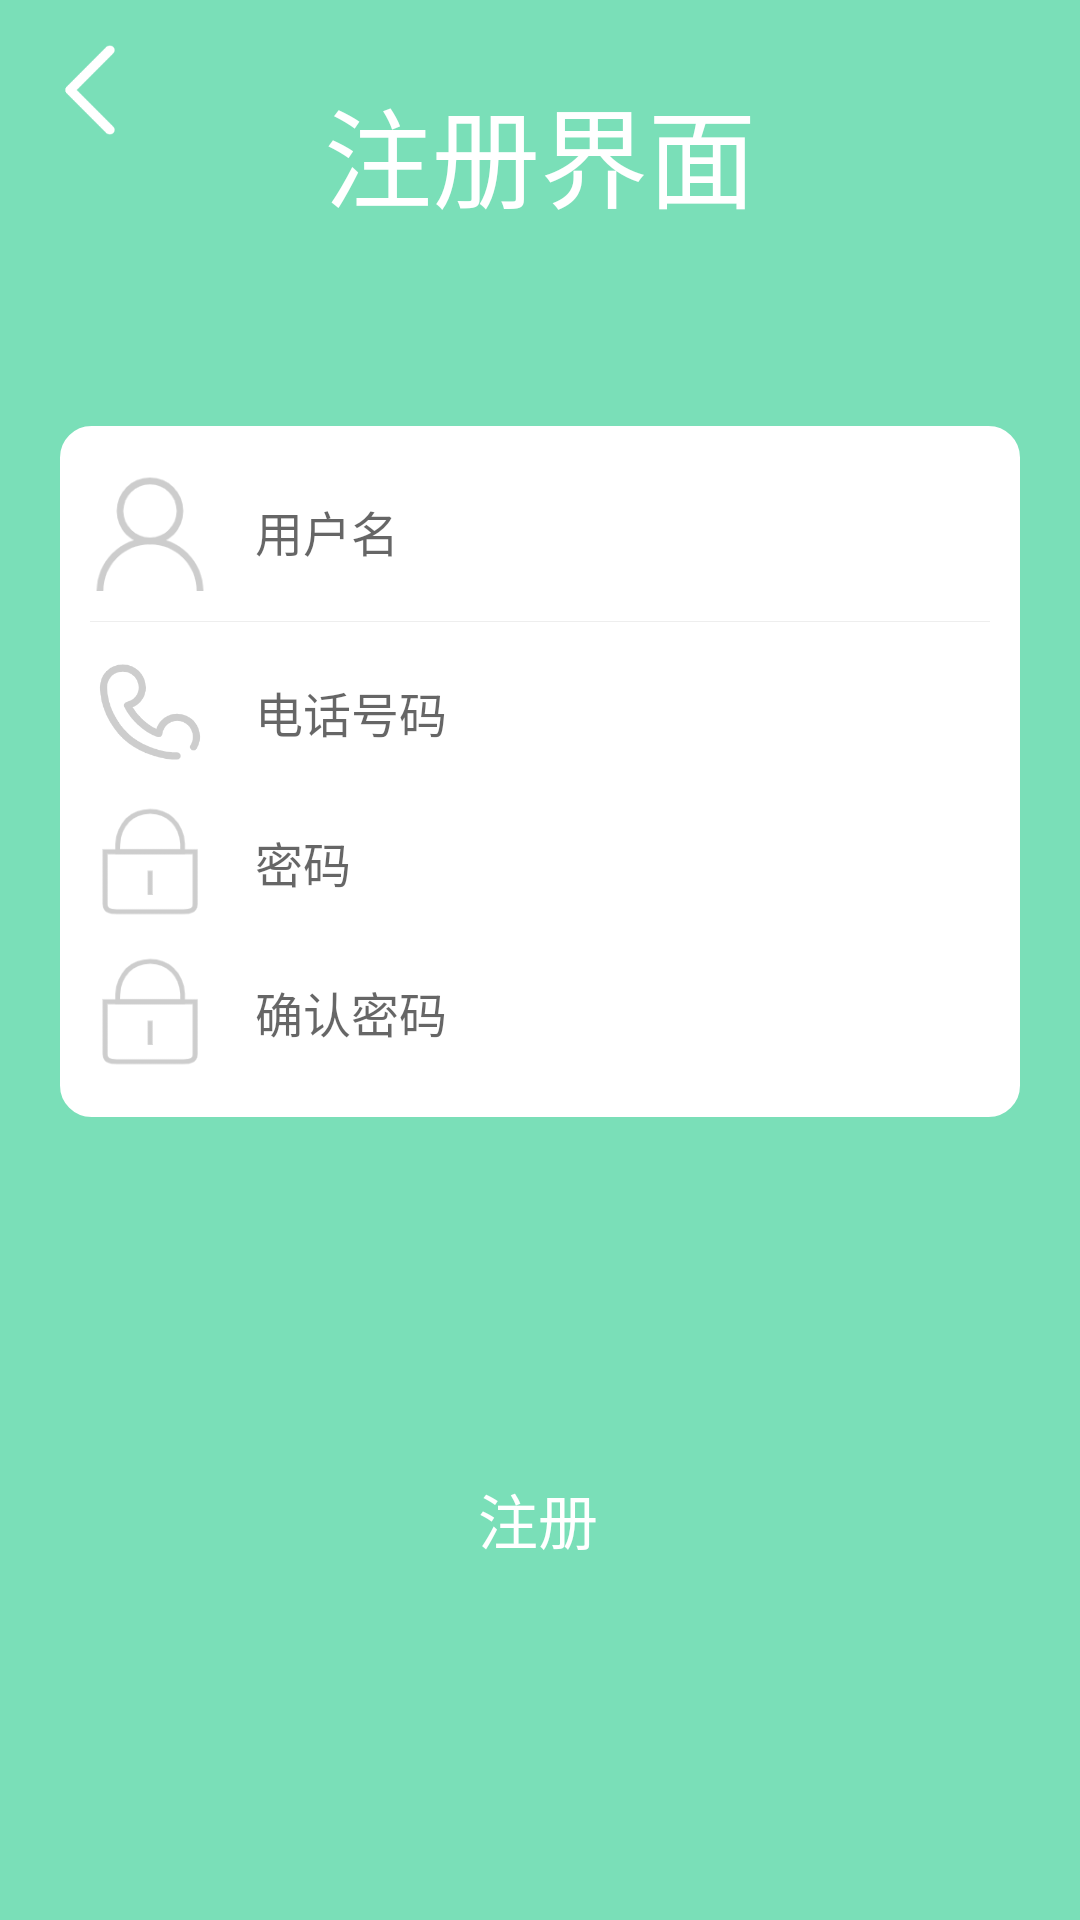

Screen size 1080×1920. Icon name, then its center in pixels as (x=x, y=y):
fanhu: (x=90, y=90)
key: (x=150, y=861), (x=150, y=1011)
number: (x=150, y=712)
user: (x=150, y=534)
